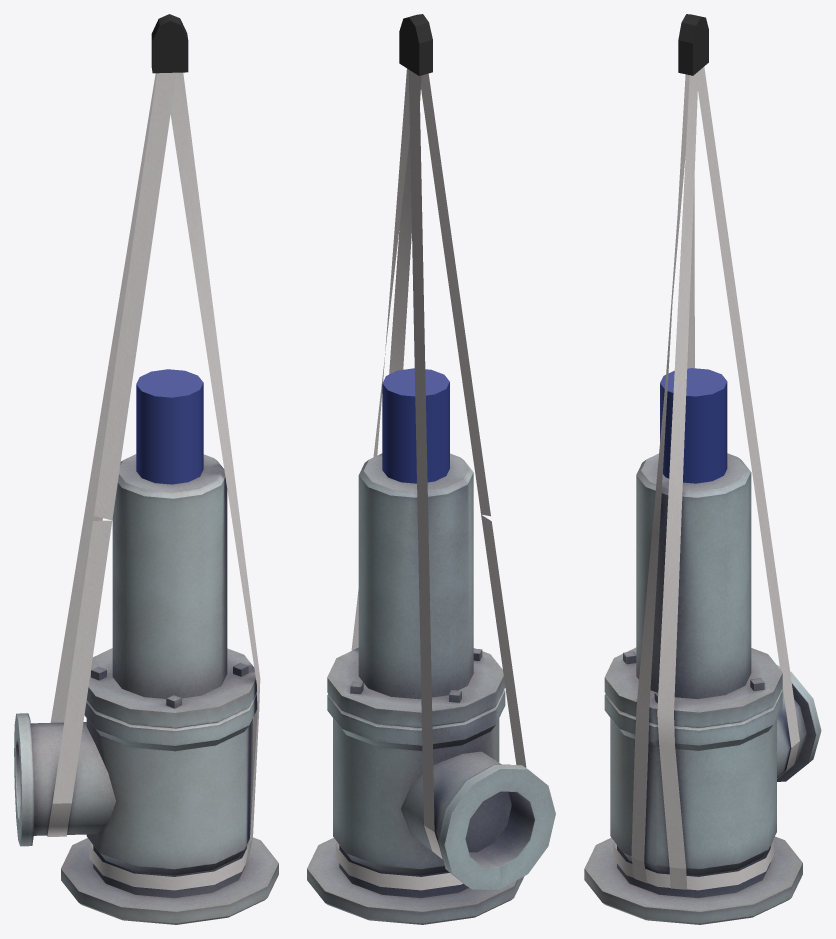
Rendered from Q_PSVValve_band.fbx.
3 views of the same model, side by side, from view 1: azimuth 30°, elevation 25°; view 2: azimuth 150°, elevation 25°; view 3: azimuth 270°, elevation 25° (orthographic).
Visible parts, largest first — view 1: q_PSVvalve_band; view 2: q_PSVvalve_band; view 3: q_PSVvalve_band.
Boxes of the visible parts, x1,y1,x2,y2 form: q_PSVvalve_band: [14, 14, 278, 924]; q_PSVvalve_band: [307, 14, 555, 924]; q_PSVvalve_band: [584, 14, 821, 924].
Bounding box in the file's own units: 1.77 × 6.14 × 1.53.
